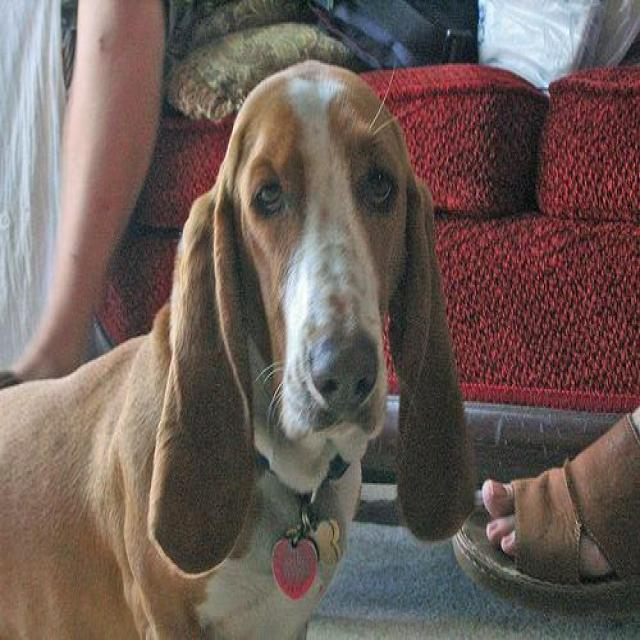basset: (0, 54, 481, 636)
